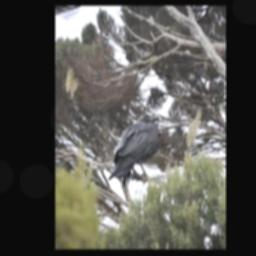Crow: (109, 112, 161, 190)
